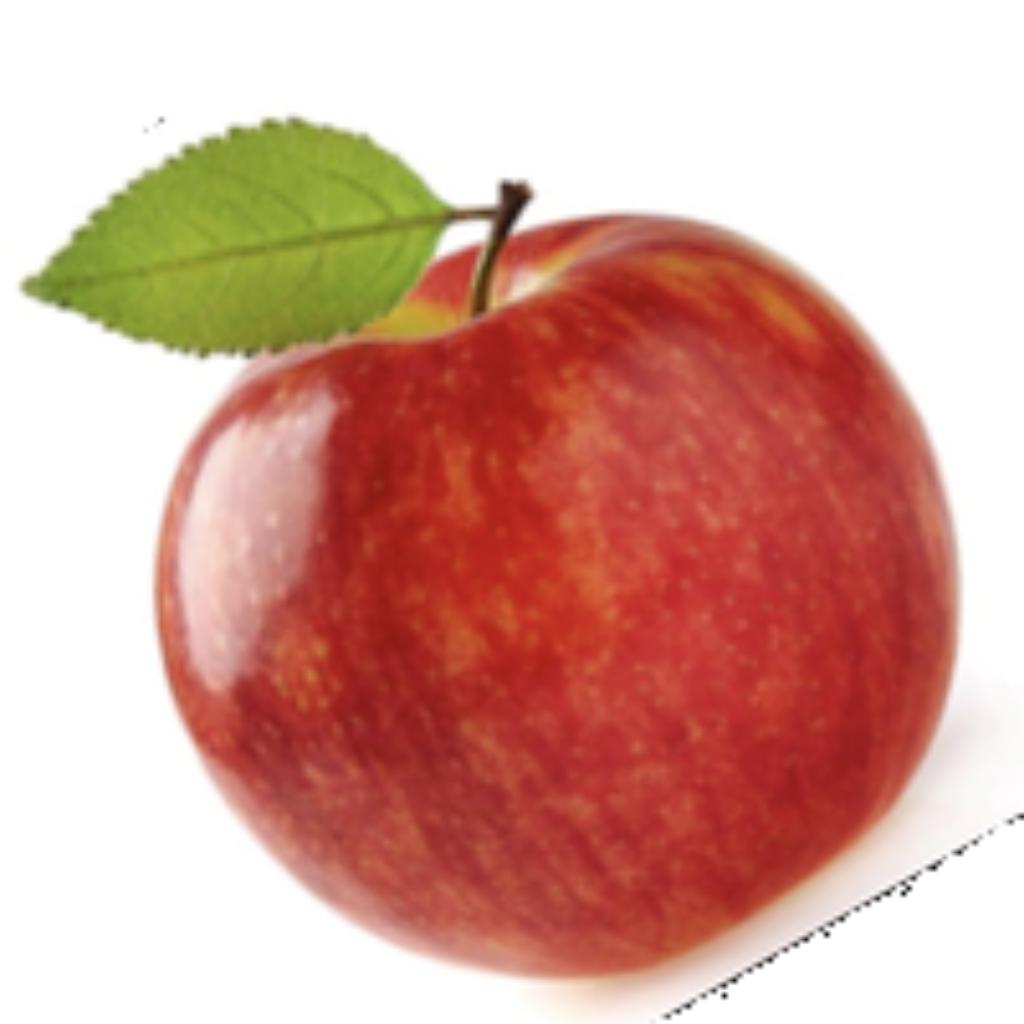apple: (10, 108, 983, 1019)
